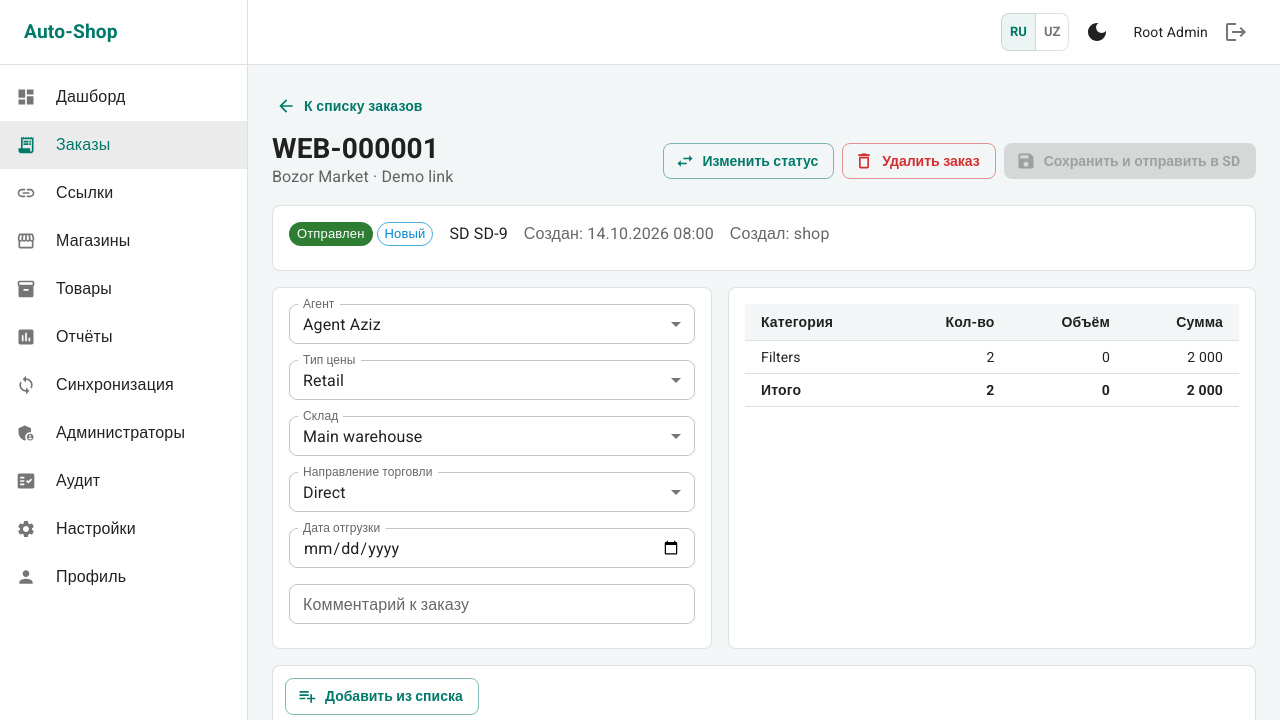
admin order detail › delete / status answering 202 with the order body keep the user on the page
What coordinates should you click on to do the following:
click the button "Удалить заказ"
I would click on:
 (919, 161)
Its box is 842,143 -> 996,179.
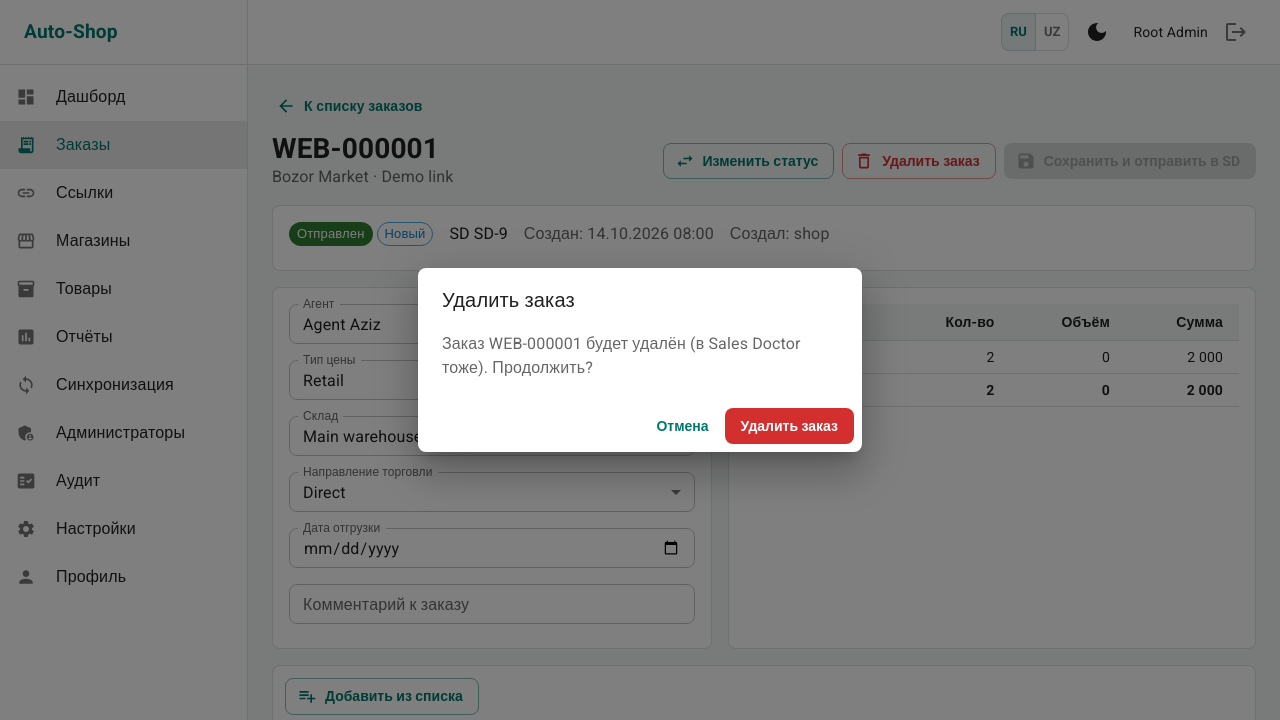
What coordinates should you click on to do the following:
click the button "Удалить заказ"
I would click on:
 (789, 426)
Its box is 725,408 -> 854,444.
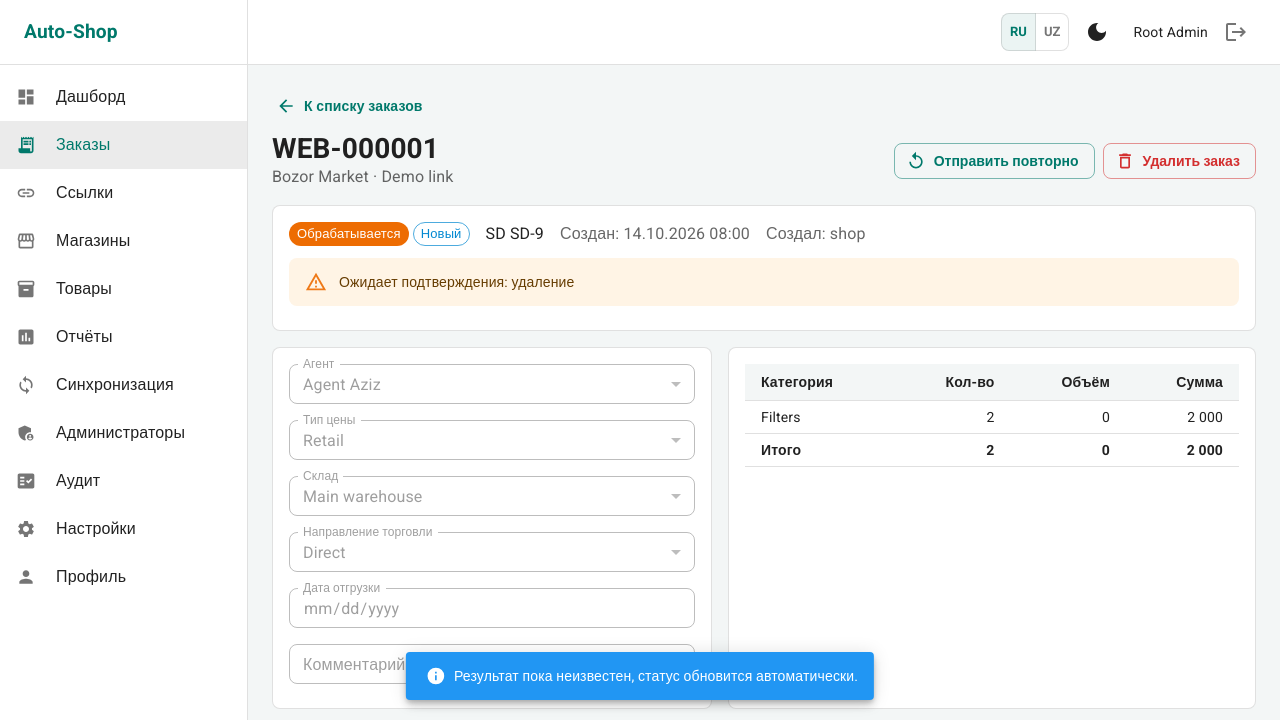
Now the message with test id "awaiting" shows "удаление", box 339,274 -> 574,290
